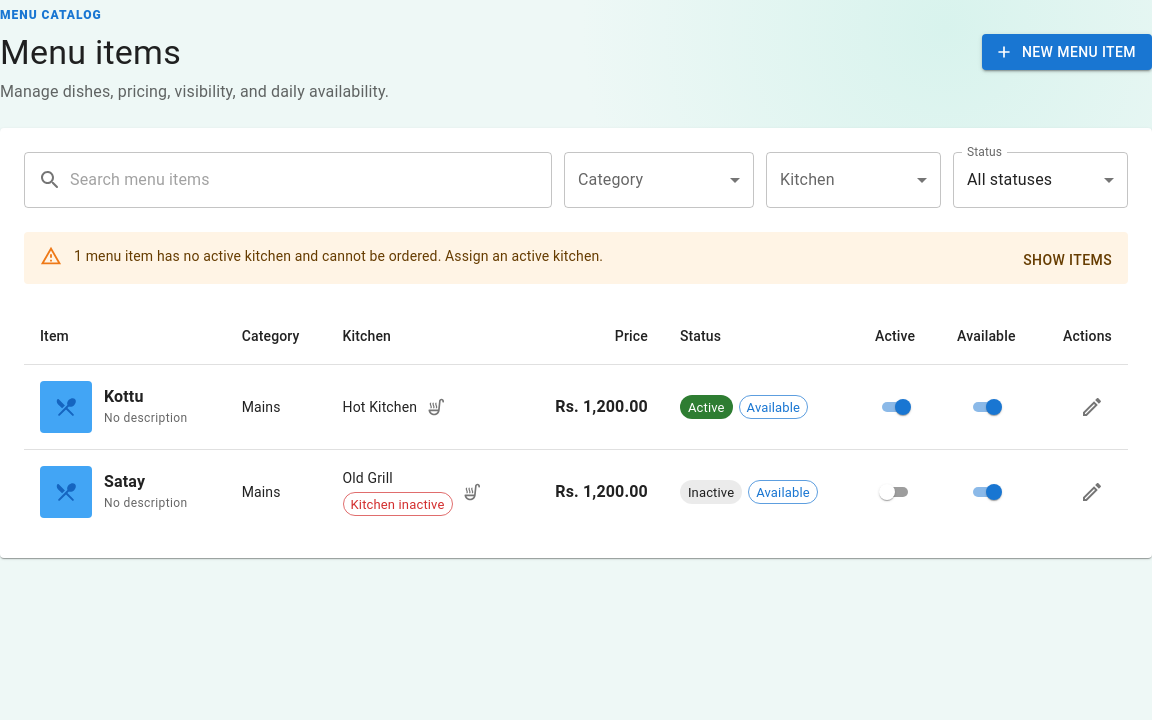
Test: Menu item kitchen assignment › changes an assignment to another active kitchen and refreshes the list
Click the button named "Change kitchen for Kottu" at (436, 407), box [421, 392, 451, 422]
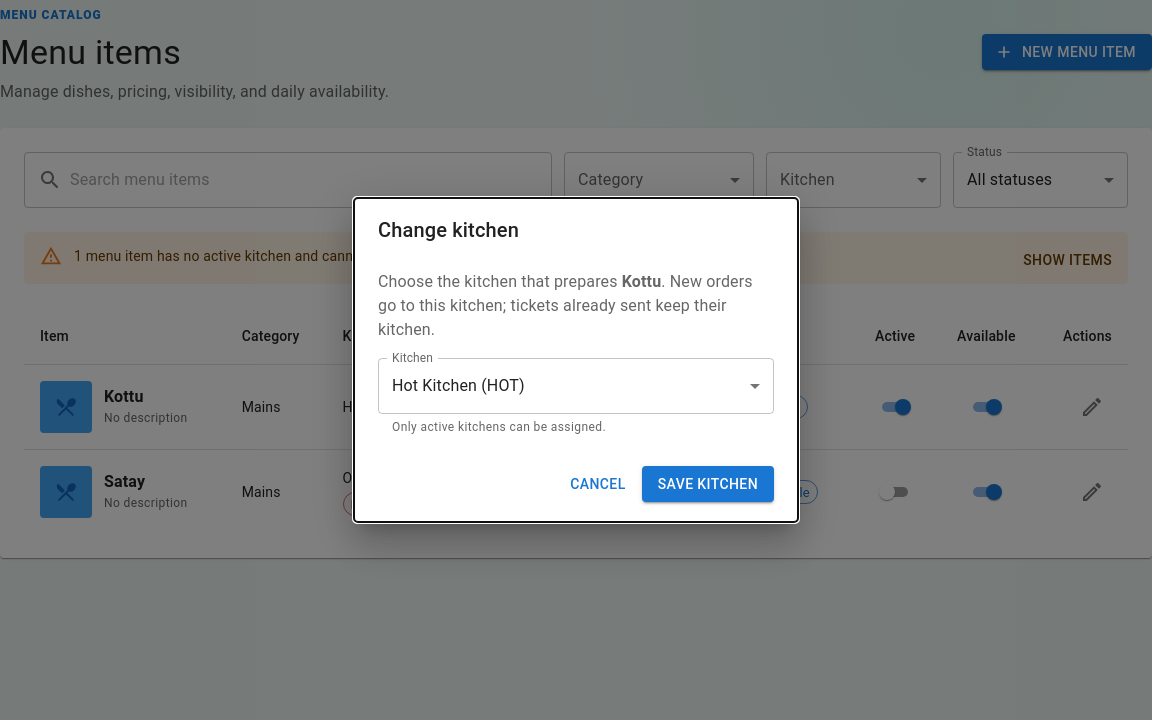
Click the dropdown labelled "Kitchen" at (458, 386), box [392, 376, 525, 395]
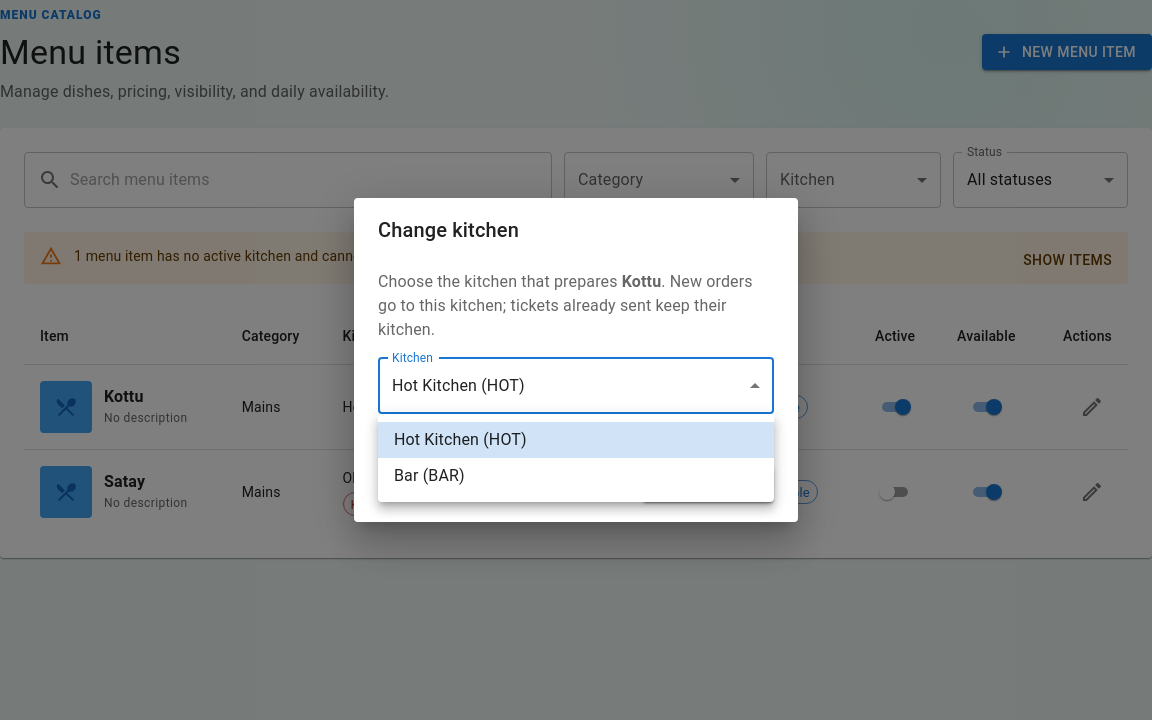
Now the options read "Hot Kitchen (HOT)", "Bar (BAR)", in this order
Click the option "Bar (BAR)" at (429, 476), box [394, 466, 465, 485]
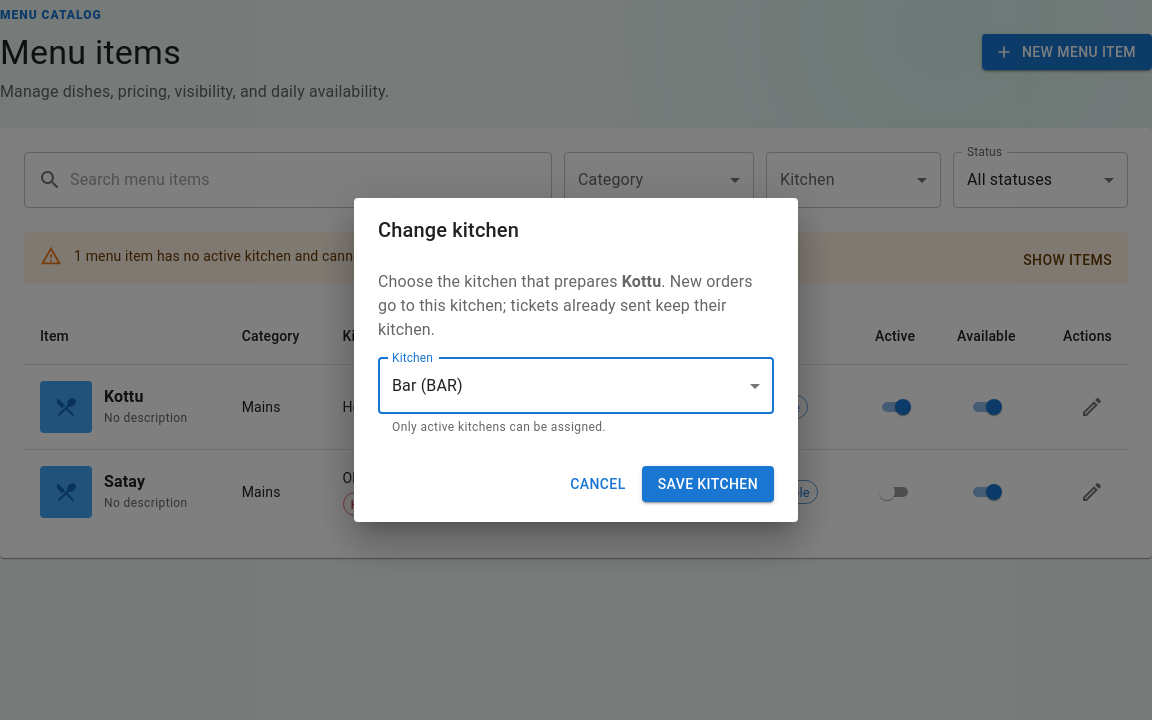
Click the button "Save kitchen" at (708, 484), box [642, 466, 774, 502]
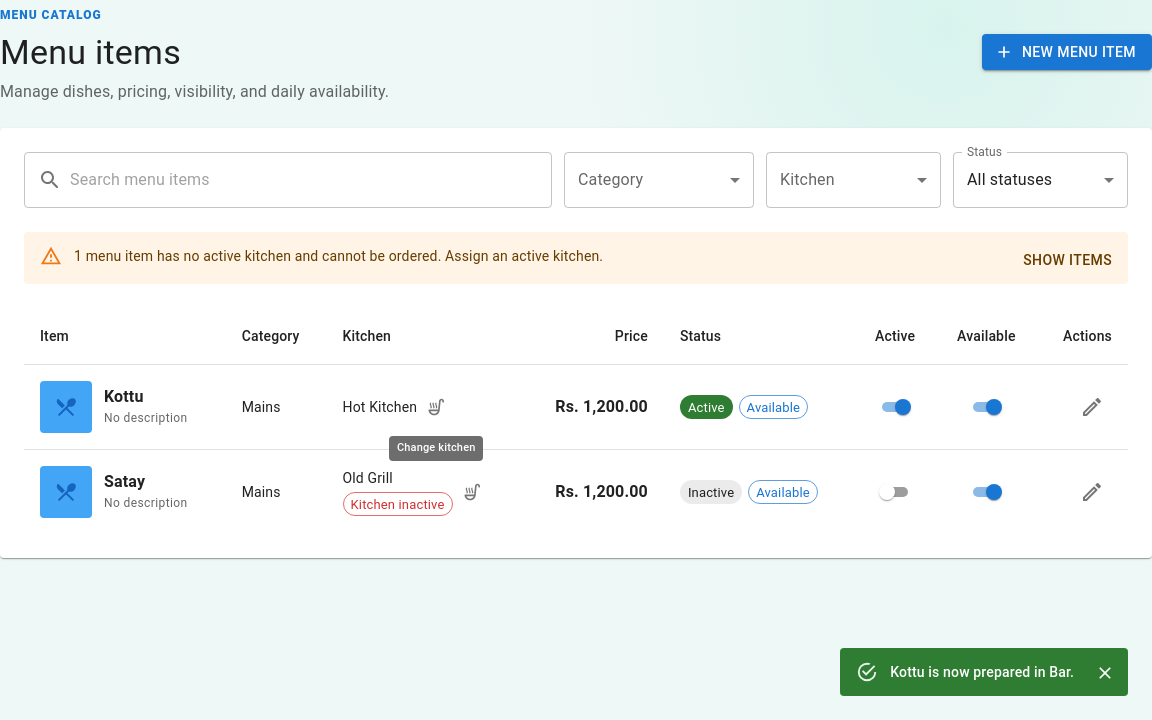
Now the text "Kottu is now prepared in Bar." is shown, box [890, 664, 1074, 680]
Now the dialog is gone
